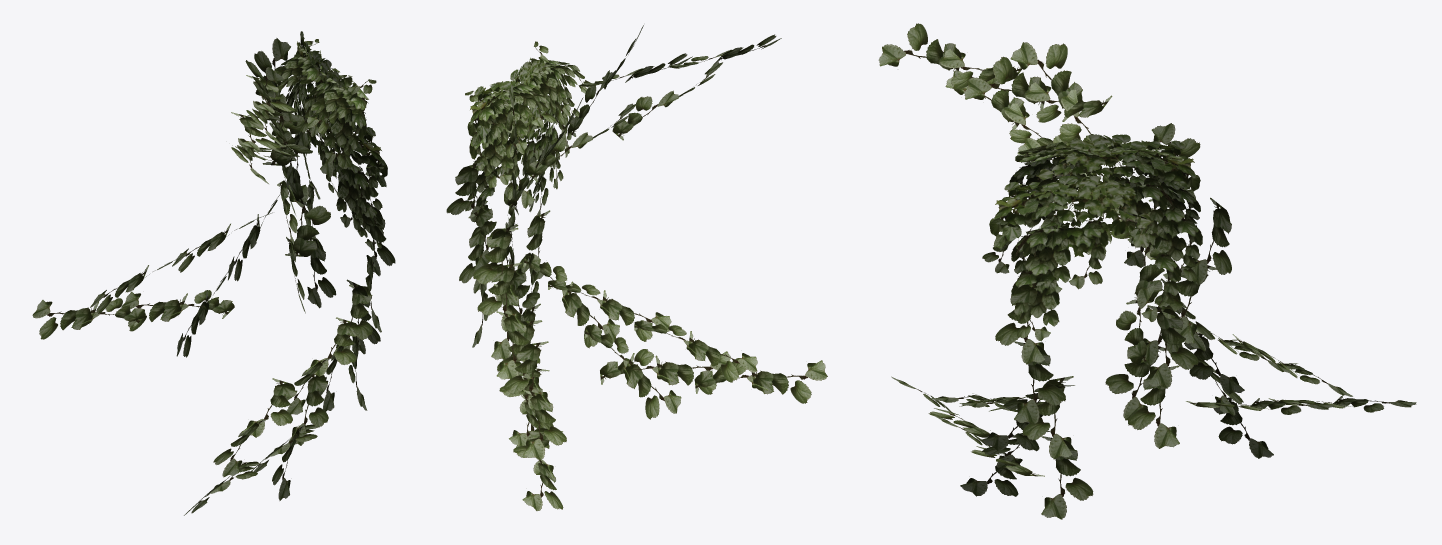
Rendered from ivy_B.fbx.
The picture shows the model from 3 angles, left to right: view 1: azimuth 30°, elevation 25°; view 2: azimuth 150°, elevation 25°; view 3: azimuth 270°, elevation 25°; orthographic projection. The views are drawn at different scales.
Visible parts, largest first — view 1: ivy_B; view 2: ivy_B; view 3: ivy_B.
Part boxes in pixels (left/top/right/bottom): ivy_B: left=32, top=31, right=395, bottom=515; ivy_B: left=446, top=25, right=827, bottom=510; ivy_B: left=878, top=23, right=1416, bottom=519.
Bounding box in the file's own units: 16.31 × 25.3 × 25.52.
